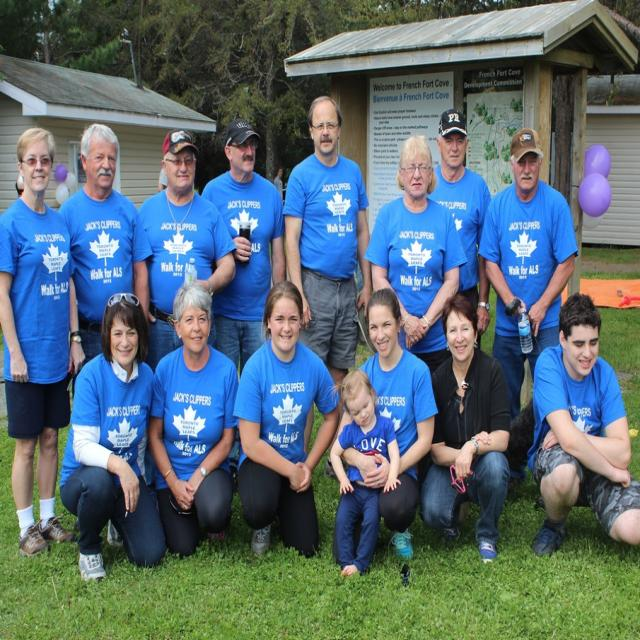body: (55, 119, 154, 549), (476, 122, 582, 506), (0, 121, 88, 562), (280, 94, 373, 480), (229, 277, 343, 565), (58, 291, 167, 582), (524, 290, 640, 560), (336, 287, 440, 563), (417, 293, 513, 565), (361, 132, 469, 372), (147, 283, 241, 558), (137, 126, 237, 374), (200, 116, 287, 376), (327, 365, 403, 584), (426, 107, 493, 350), (13, 168, 28, 207), (272, 165, 284, 206), (157, 162, 170, 197)
